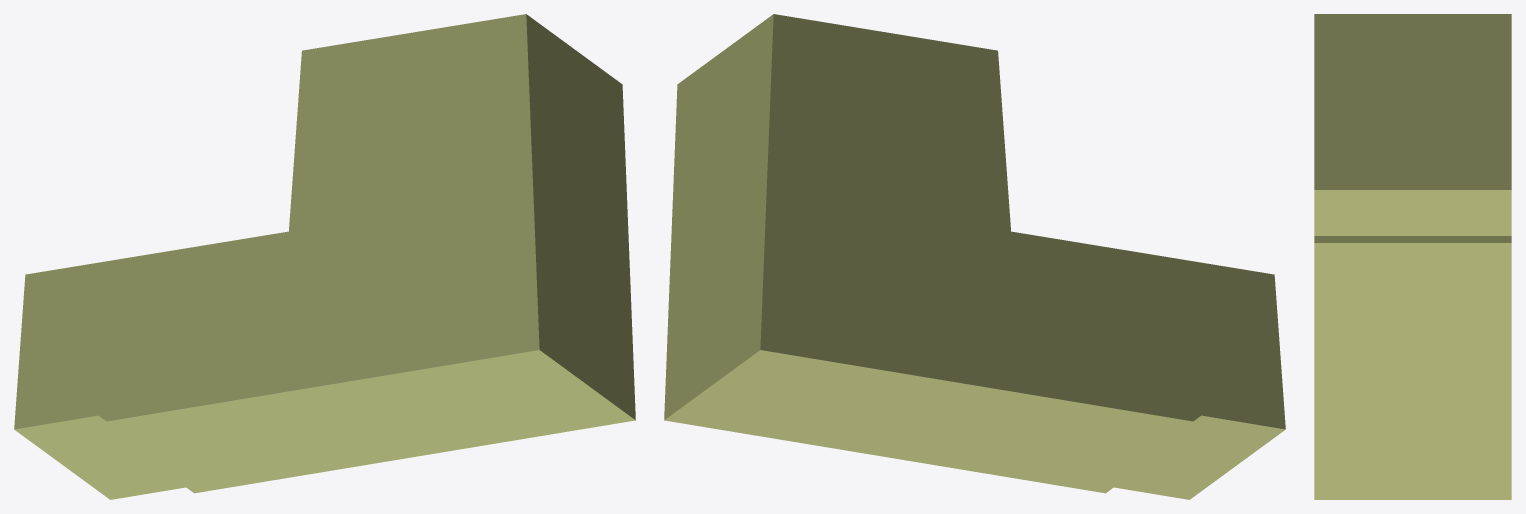
The picture shows the model from 3 angles, left to right: view 1: azimuth 30°, elevation 25°; view 2: azimuth 150°, elevation 25°; view 3: azimuth 270°, elevation 25°; orthographic projection. The views are drawn at different scales.
Parts seen in each view (by area): view 1: 0_2_1_3_0_0_0_2; view 2: 0_2_1_3_0_0_0_2; view 3: 0_2_1_3_0_0_0_2.
Boxes of the visible parts, x1,y1,x2,y2 form: 0_2_1_3_0_0_0_2: (14,14,635,499); 0_2_1_3_0_0_0_2: (664,14,1285,499); 0_2_1_3_0_0_0_2: (1314,14,1511,499).
Bounding box in the file's own units: 18.91 × 12.29 × 6.
